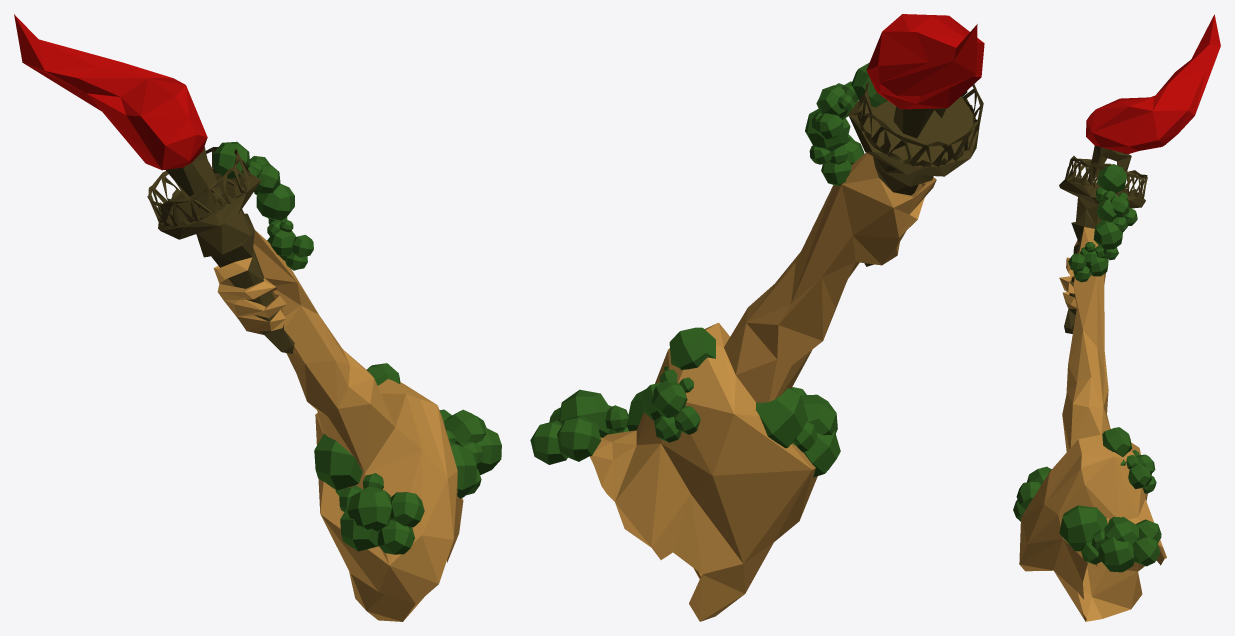
File: Obstaculo5.fbx
3 views of the same model, side by side, from view 1: azimuth 30°, elevation 25°; view 2: azimuth 150°, elevation 25°; view 3: azimuth 270°, elevation 25° (orthographic). The views are drawn at different scales.
Visible parts, largest first — view 1: Obstaculo5; view 2: Obstaculo5; view 3: Obstaculo5.
Boxes of the visible parts, <box> form: Obstaculo5: <box>14,14,501,621</box>; Obstaculo5: <box>530,14,984,621</box>; Obstaculo5: <box>1013,14,1220,621</box>.
Bounding box in the file's own units: 4771 × 6734 × 2576.
